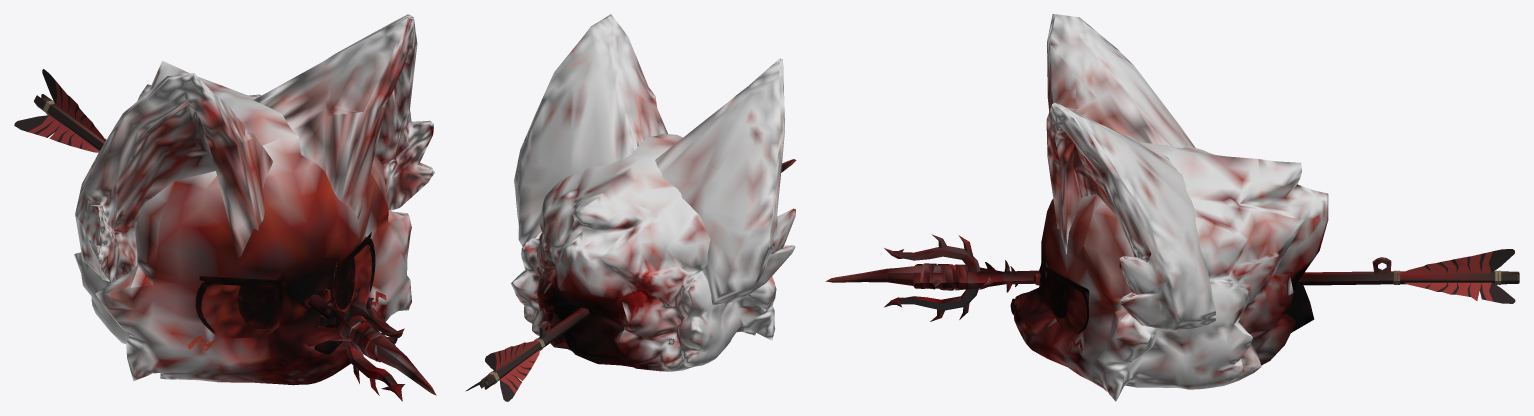
The model's file is bloodlustArrow.glb.
The picture shows the model from 3 angles, left to right: view 1: azimuth 30°, elevation 25°; view 2: azimuth 150°, elevation 25°; view 3: azimuth 270°, elevation 25°; orthographic projection. The views are drawn at different scales.
Parts seen in each view (by area): view 1: bloodlustBarbarianArrow; view 2: bloodlustBarbarianArrow; view 3: bloodlustBarbarianArrow.
Part boxes in pixels (box(x1,y1,x2,y2)): bloodlustBarbarianArrow: box(14, 14, 436, 401); bloodlustBarbarianArrow: box(465, 14, 796, 401); bloodlustBarbarianArrow: box(825, 14, 1519, 401).
Size of the model in its own units: 0.5787 by 0.5681 by 1.18.
